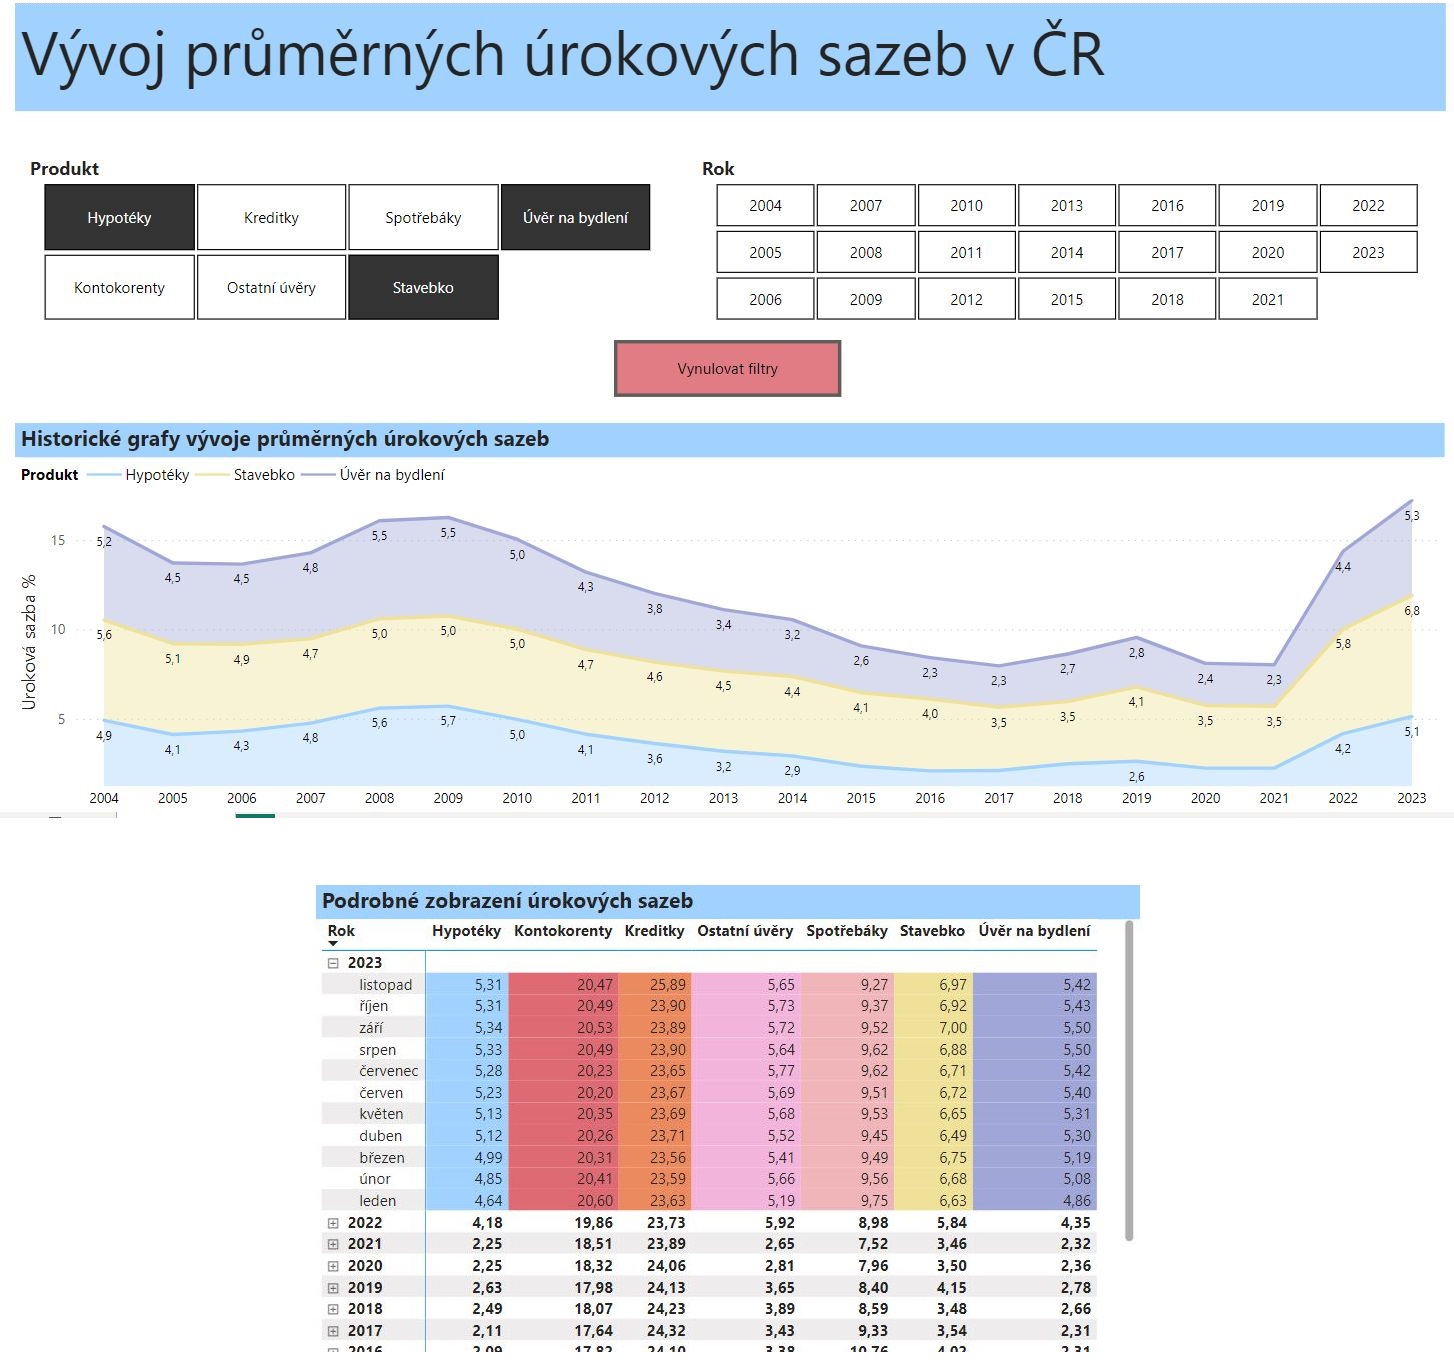

What the dashboard file says about the page in this screenshot:
{"tool":"powerbi","page":{"name":"úrokové sazby","canvas":[1280,1300],"ordinal":0},"visuals":[{"type":"stackedAreaChart","title":"Historické grafy vývoje průměrných úrokových sazeb","fields":{"Series":["urokove_sazby_domacnotsti.Produkt"],"Y":["Avg(urokove_sazby_domacnotsti.Úroková sazba)"],"Category":["urokove_sazby_domacnotsti.Období.Variace.Hierarchie dat.Rok","urokove_sazby_domacnotsti.Období.Variace.Hierarchie dat.Čtvrtletí","urokove_sazby_domacnotsti.Období.Variace.Hierarchie dat.Měsíc","urokove_sazby_domacnotsti.Období.Variace.Hierarchie dat.Den"]},"box":[14.1,370.2,1256.5,366.4],"z":0},{"type":"slicer","fields":{"Values":["urokove_sazby_domacnotsti.Produkt"]},"box":[14.1,130,582.1,156.4],"z":1000},{"type":"slicer","fields":{"Values":["urokove_sazby_domacnotsti.Období.Variace.Hierarchie dat.Rok"]},"box":[604.7,130,665.9,156.4],"z":2000},{"type":"textbox","box":[13.9,0.9,1256.9,95.1],"z":3000},{"type":"actionButton","box":[540.6,296.7,199.7,49.9],"z":4000},{"type":"pivotTable","title":"Podrobné zobrazení úrokových sazeb","fields":{"Columns":["urokove_sazby_domacnotsti.Produkt"],"Values":["Avg(urokove_sazby_domacnotsti.Úroková sazba)"],"Rows":["urokove_sazby_domacnotsti.Období.Variace.Hierarchie dat.Rok","urokove_sazby_domacnotsti.Období.Variace.Hierarchie dat.Měsíc"]},"box":[277.9,759.1,724.3,457.7],"z":5000}]}

Visuals, with their boxes on the page's 1280x1300 design canvas (x1, y1, x2, y2). These are canvas units, not pixel positions in the 1454x1368 screenshot, which may show the page scaled, cropped or inside an application window:
"Historické grafy vývoje průměrných úrokových sazeb" stackedAreaChart: bbox=(14, 370, 1271, 737)
slicer - urokove_sazby_domacnotsti.Produkt: bbox=(14, 130, 596, 286)
slicer - urokove_sazby_domacnotsti.Období.Variace.Hierarchie dat.Rok: bbox=(605, 130, 1271, 286)
textbox: bbox=(14, 1, 1271, 96)
actionButton: bbox=(541, 297, 740, 347)
"Podrobné zobrazení úrokových sazeb" pivotTable: bbox=(278, 759, 1002, 1217)
